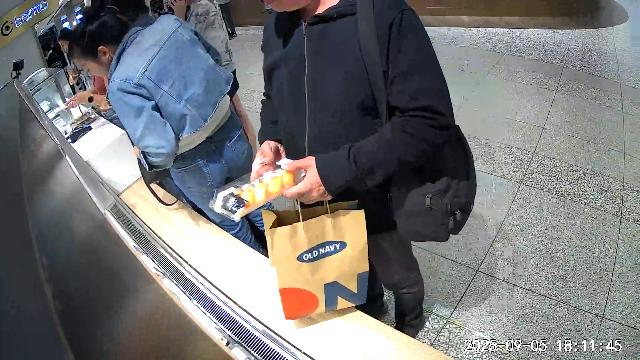sushi-box: (210, 158, 305, 221), (71, 107, 99, 129), (98, 95, 113, 109)
